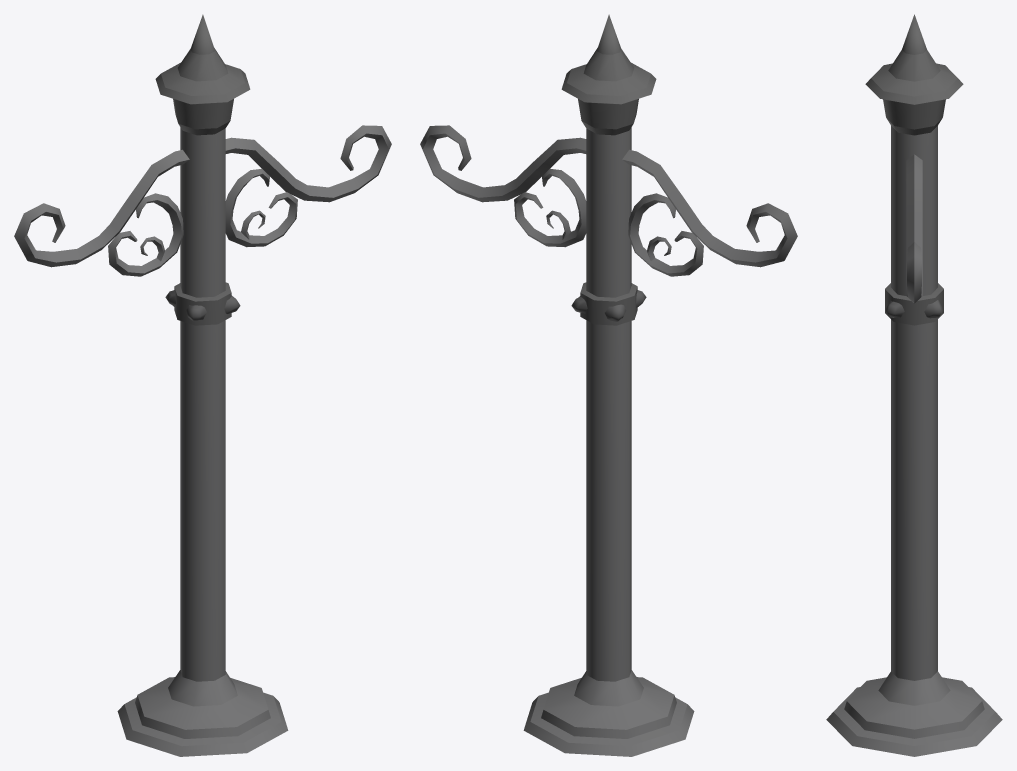
The model's file is Lamp_Road_D.fbx.
3 renders of one model, left to right at view 1: azimuth 30°, elevation 25°; view 2: azimuth 150°, elevation 25°; view 3: azimuth 270°, elevation 25°, orthographic.
Parts seen in each view (by area): view 1: Lamp_Road_D; view 2: Lamp_Road_D; view 3: Lamp_Road_D.
Part boxes in pixels (<box>): Lamp_Road_D: <box>14,14,391,756</box>; Lamp_Road_D: <box>420,14,797,756</box>; Lamp_Road_D: <box>826,14,1002,756</box>.
Bounding box in the file's own units: 216 × 386 × 87.39.
